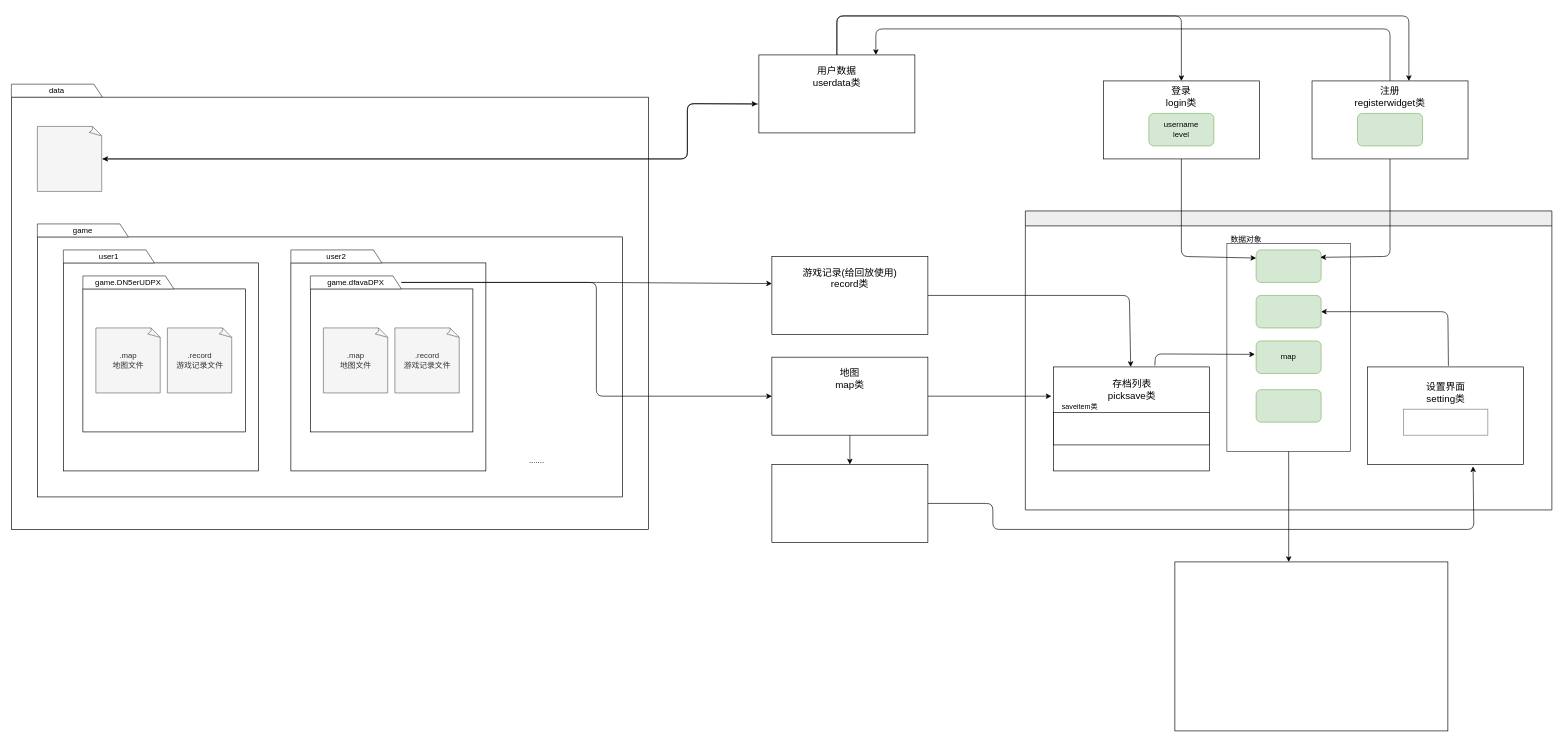
Image size: 1563x742. Some labels were removed from this diagram. Each missing label, with the box of its shape:
record: (1255, 389, 1321, 422)
setting: (1255, 295, 1321, 328)
startgame类: (1025, 210, 1552, 510)
user: (1255, 249, 1321, 282)
user.user 用户数据文件: (37, 126, 102, 191)
username password: (1357, 113, 1423, 146)
游戏 game类: (1174, 561, 1448, 731)
游戏设置...: (1403, 409, 1488, 435)
设置类 setting类: (771, 464, 928, 542)
